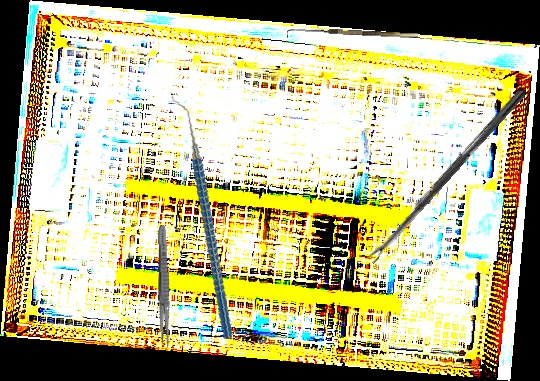Chopper: (134, 94, 269, 340)
Dressing Forceps: (155, 224, 173, 349)
Hook Surgical: (286, 26, 419, 45)
Surgical Spoon: (366, 86, 528, 264)
